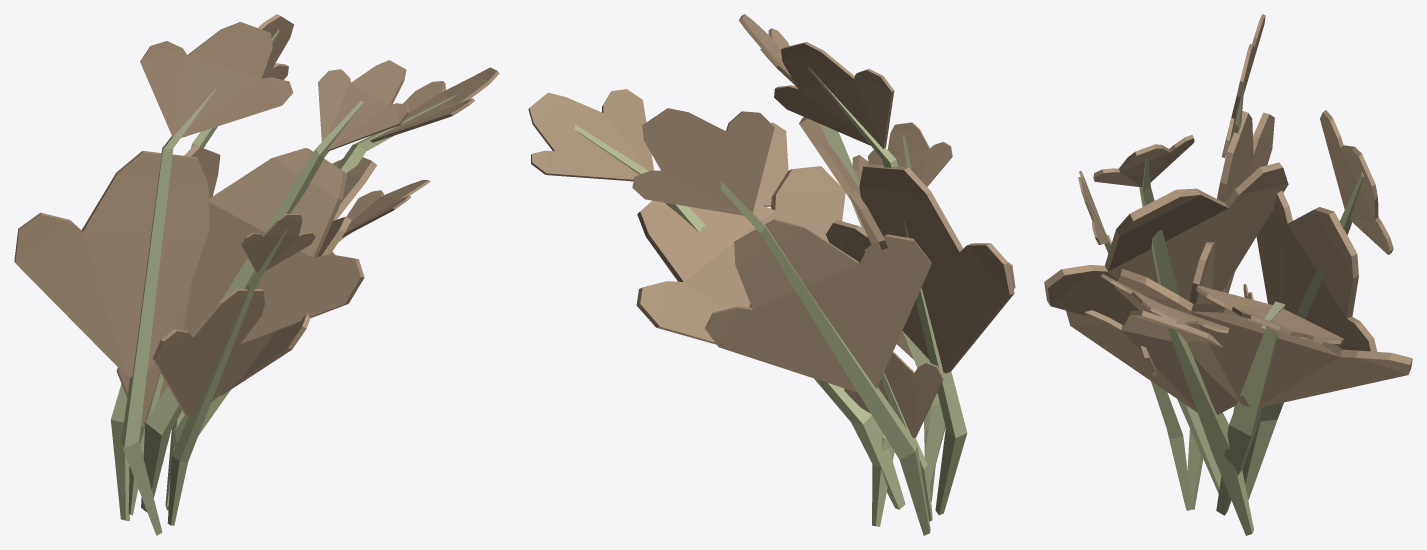
File: Carrot_Dry_4.fbx
3 renders of one model, left to right at view 1: azimuth 30°, elevation 25°; view 2: azimuth 150°, elevation 25°; view 3: azimuth 270°, elevation 25°, orthographic. The views are drawn at different scales.
Visible parts, largest first — view 1: 4_Dry_Carrot; view 2: 4_Dry_Carrot; view 3: 4_Dry_Carrot.
Part boxes in pixels (x1,y1,x2,y2): 4_Dry_Carrot: (14, 14, 499, 535); 4_Dry_Carrot: (528, 14, 1015, 535); 4_Dry_Carrot: (1044, 14, 1412, 535).
Bounding box in the file's own units: 23.24 × 21.65 × 13.81.
